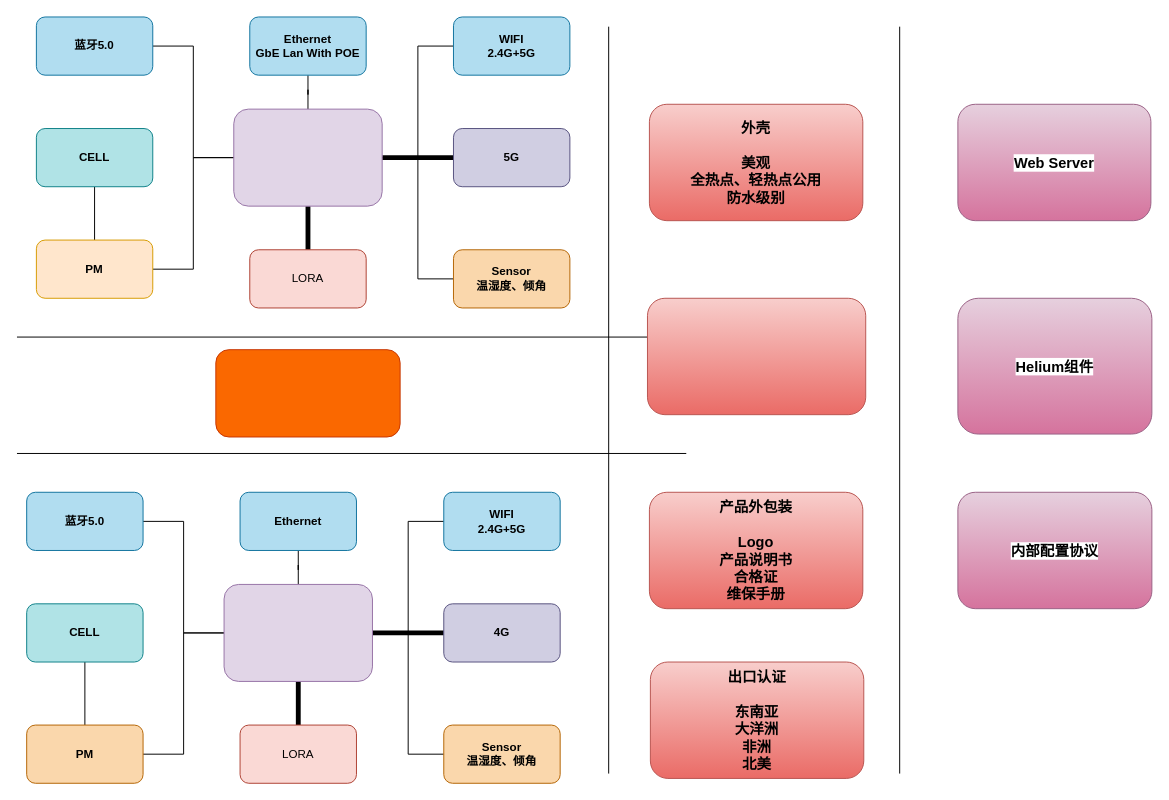
This 1169x800 diagram has some shape labels left out. Each missing label, with the centre of its shape:
APP For Configuration Android + IOS: point 307,393
RK3399: point 307,157
STC: point 297,632
安装结构件 室内方便固定 室外方便安装: point 756,356
